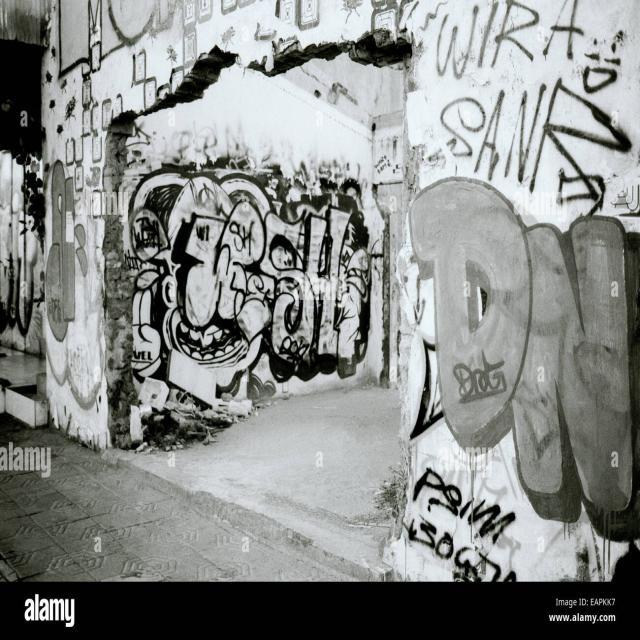-: (411, 177, 640, 540), (137, 167, 370, 386), (436, 0, 631, 216), (412, 462, 520, 588), (46, 161, 90, 337), (0, 252, 36, 340)
